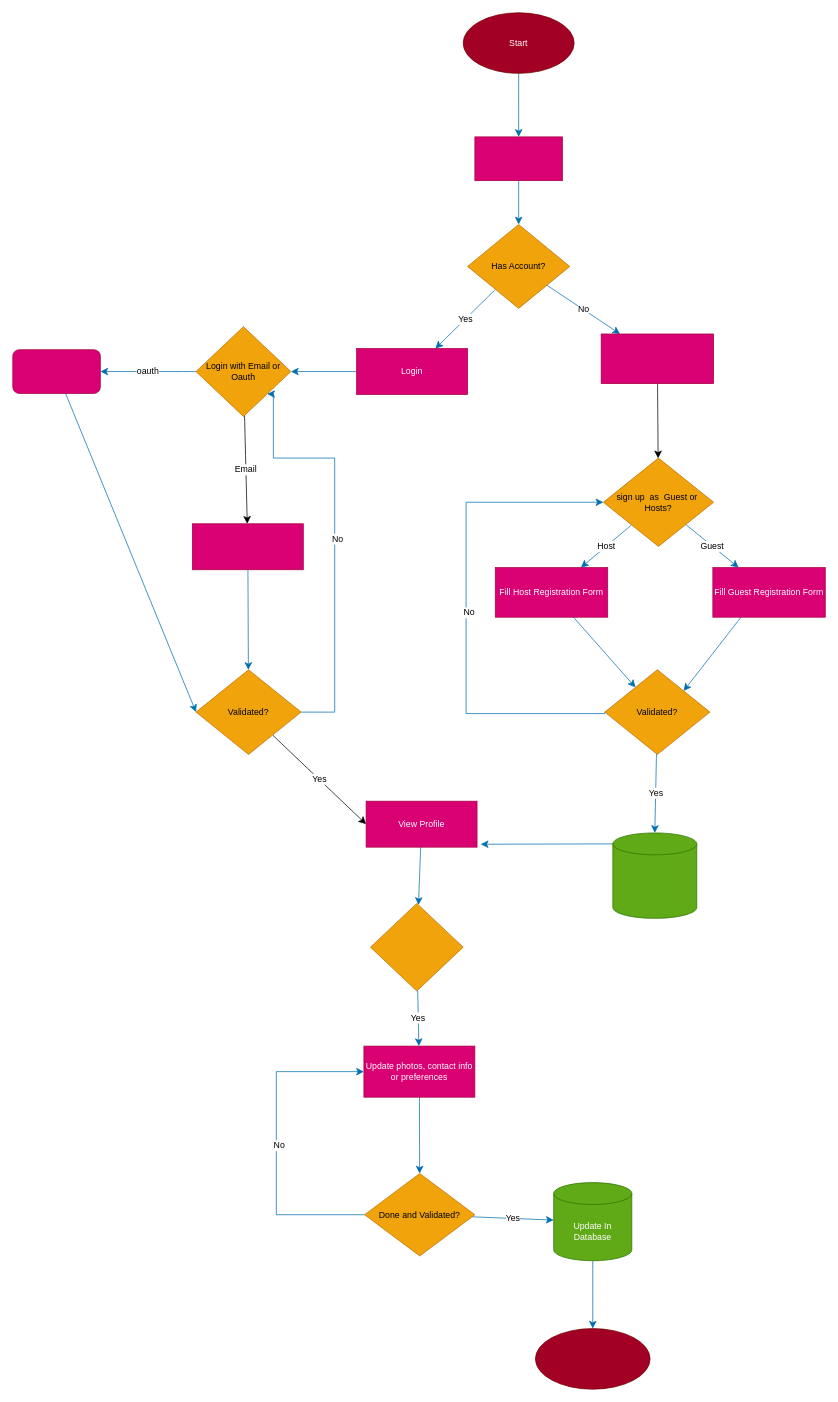
Image size: 838x1402. Some labels were removed from this diagram. Each missing label, with the box of its shape:
Continue with Google/Facebook: (12, 349, 100, 393)
Create New account: (600, 333, 714, 384)
End: (535, 1328, 650, 1389)
Enterr Email and Password: (192, 523, 303, 570)
Store in Database: (612, 832, 697, 918)
Update Profile?: (370, 903, 463, 991)
User configuration: (474, 136, 562, 181)
